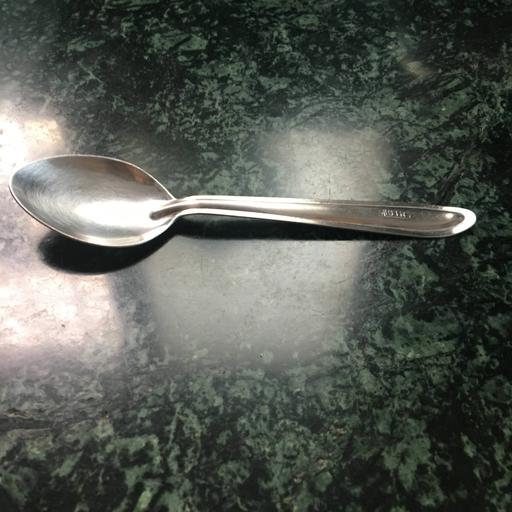spoon: (11, 156, 478, 248)
